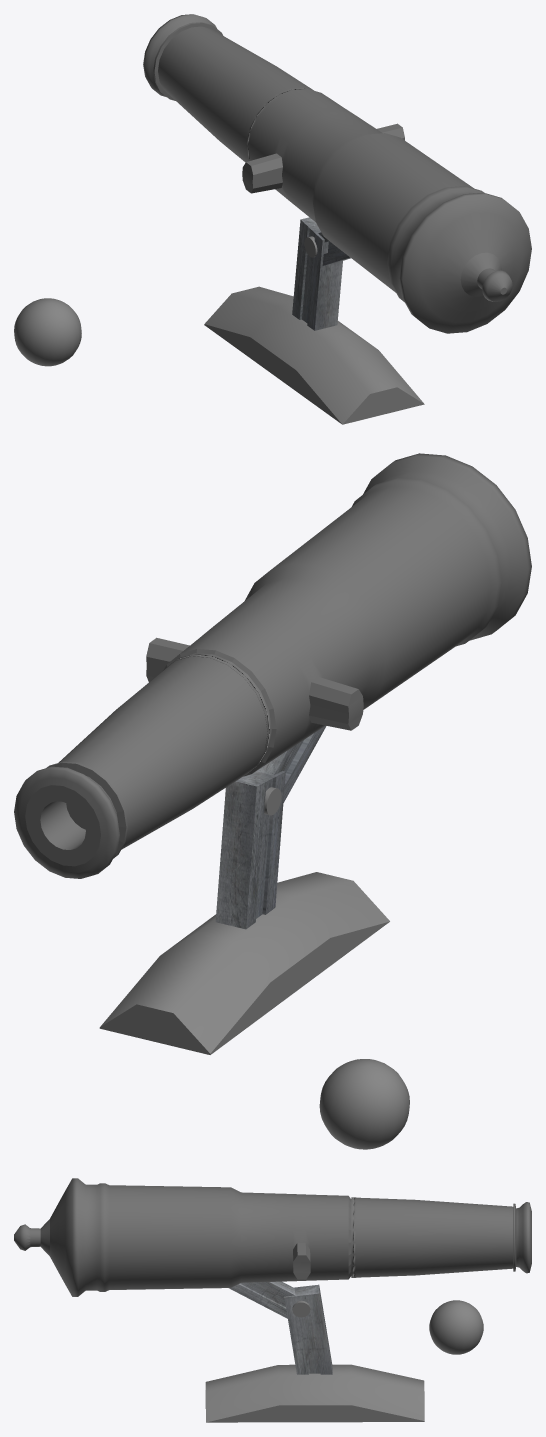
File: SkydeBaneCannon.fbx
The picture shows the model from 3 angles, top to bottom: view 1: azimuth 30°, elevation 25°; view 2: azimuth 150°, elevation 25°; view 3: azimuth 270°, elevation 25°; orthographic projection. The views are drawn at different scales.
Parts seen in each view (by area): view 1: Old_Canon:pCylinder1, pSphere1; view 2: Old_Canon:pCylinder1, pSphere1; view 3: Old_Canon:pCylinder1, pSphere1.
Part boxes in pixels (x1,y1,x2,y2): Old_Canon:pCylinder1: (143, 14, 531, 424); pSphere1: (14, 298, 81, 366); Old_Canon:pCylinder1: (14, 453, 531, 1054); pSphere1: (319, 1059, 409, 1149); Old_Canon:pCylinder1: (14, 1178, 531, 1422); pSphere1: (429, 1300, 483, 1354).
Bounding box in the file's own units: 11.43 × 11.42 × 22.46.
Materials: 3 (1 with a texture image).
